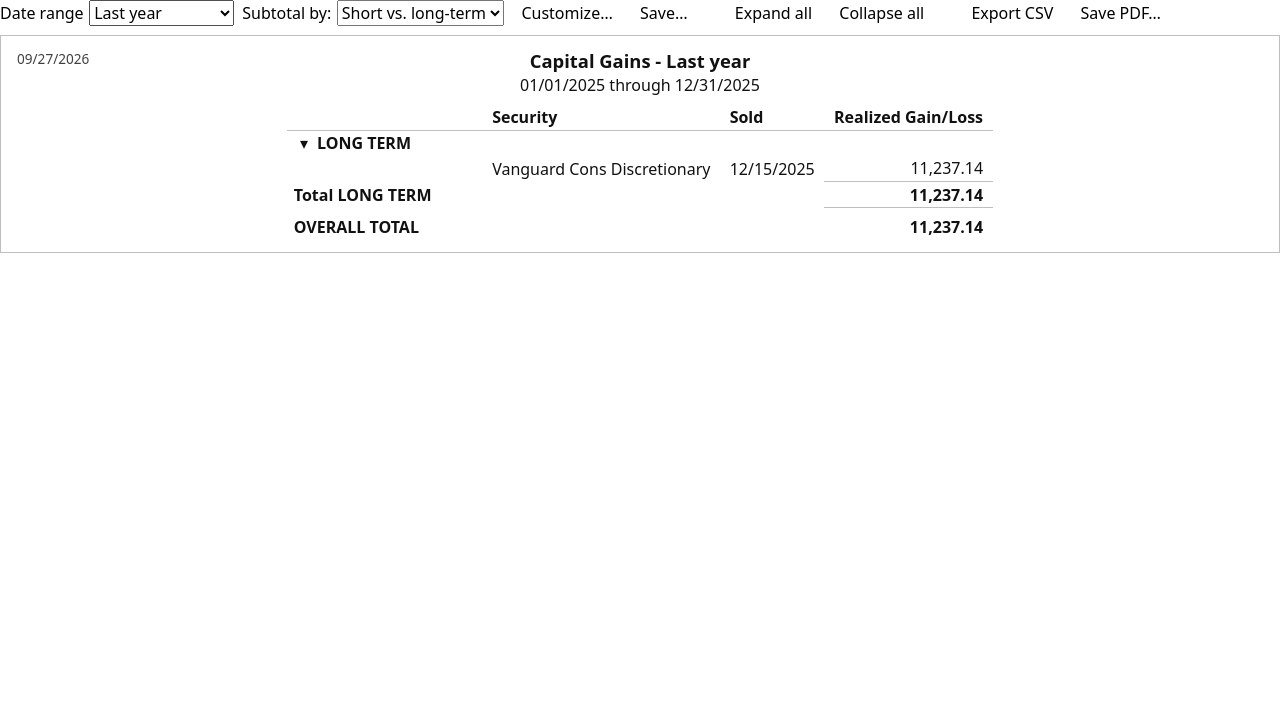
Test: Report window › Save PDF asks the orientation, saves, and says where
Step 1. Click the button "Save PDF…" → (1121, 13), box x1=1071 y1=0 x2=1170 y2=27
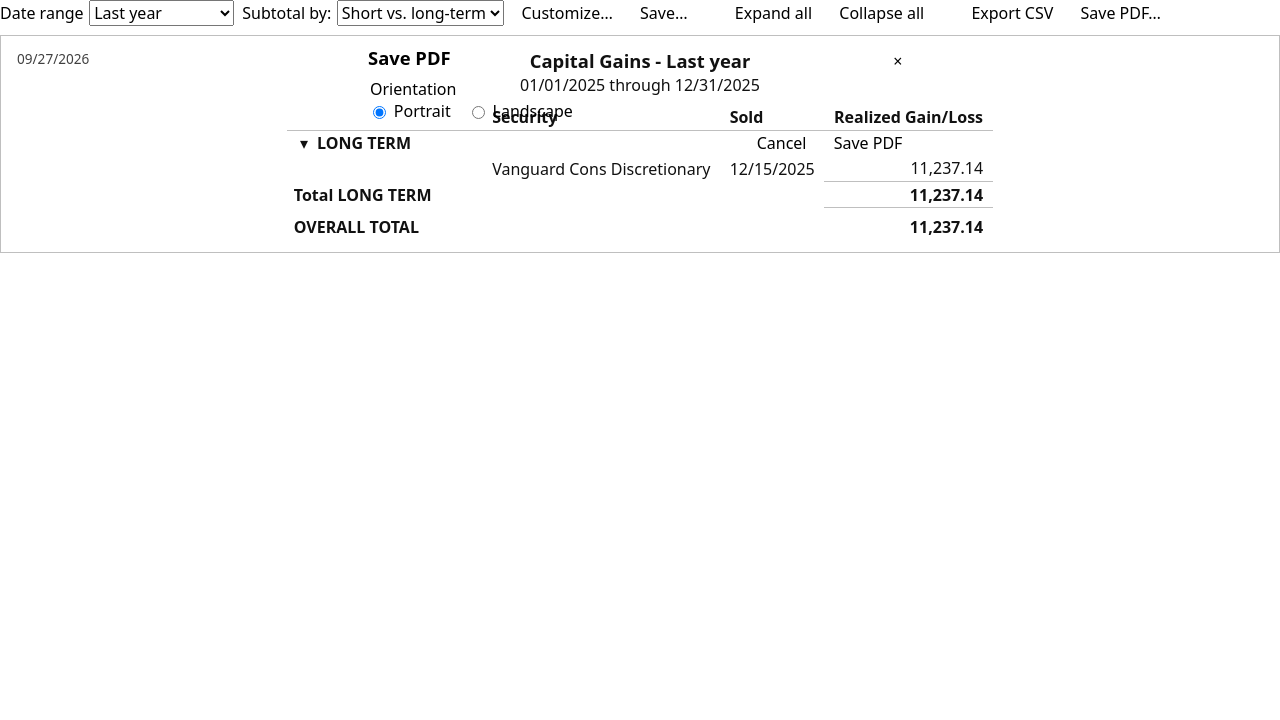
Result: the radio button labelled "Portrait" is checked at x1=373 y1=106 x2=386 y2=119
Step 2. Click the radio button labelled "Landscape" → (478, 112), box x1=472 y1=106 x2=485 y2=119
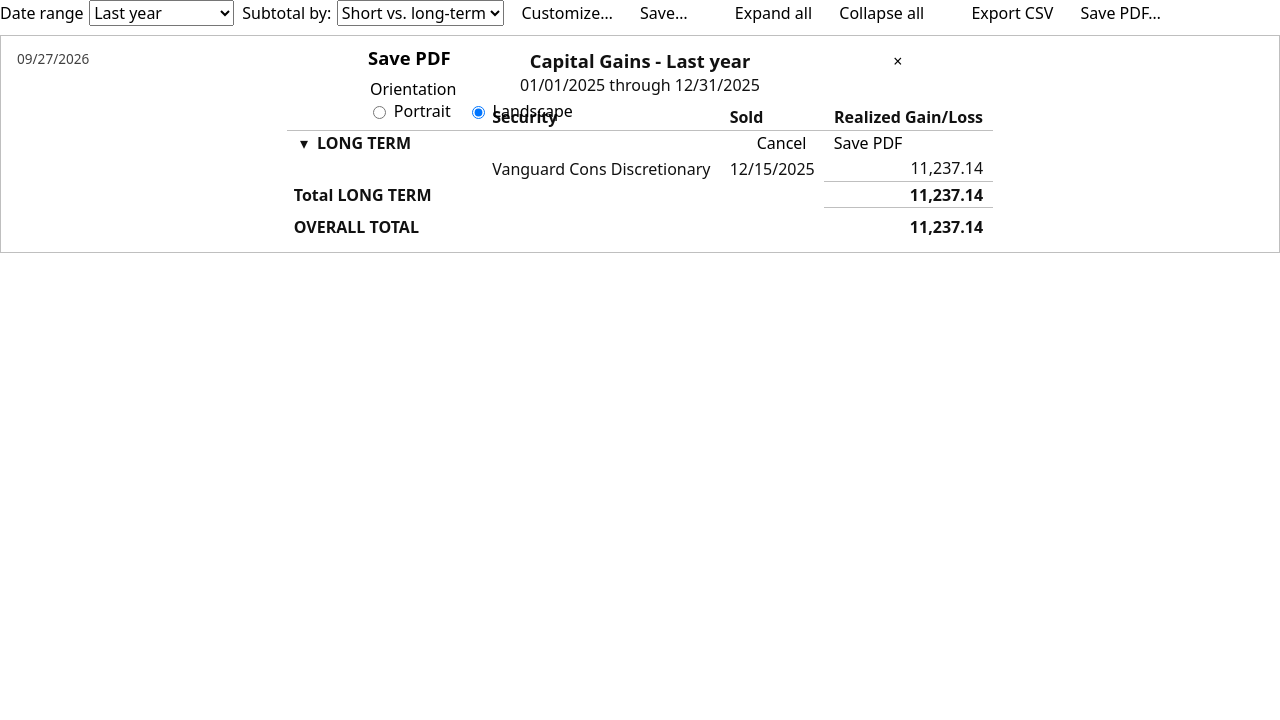
Step 3. Click the button "Save PDF" → (868, 143), box x1=824 y1=130 x2=912 y2=157
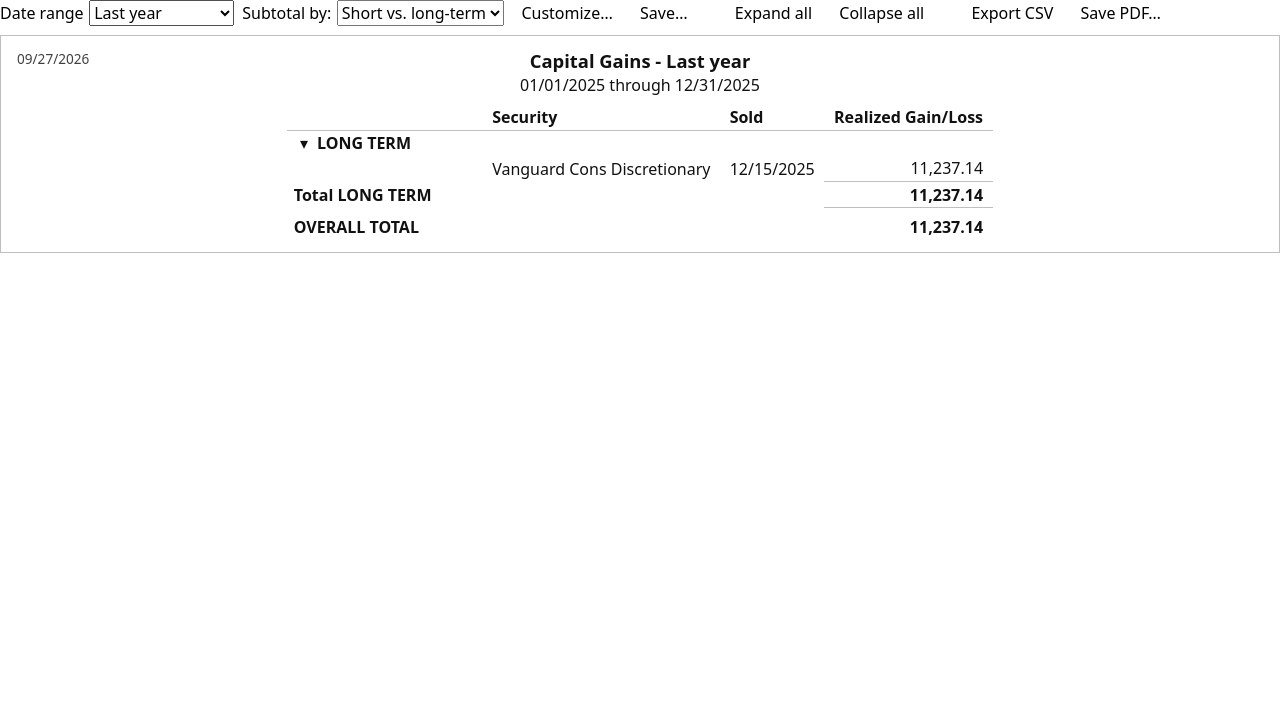
// The choice is remembered for the next PDF.
Step 4. Click the button "Save PDF…" → (1121, 13), box x1=1071 y1=0 x2=1170 y2=27
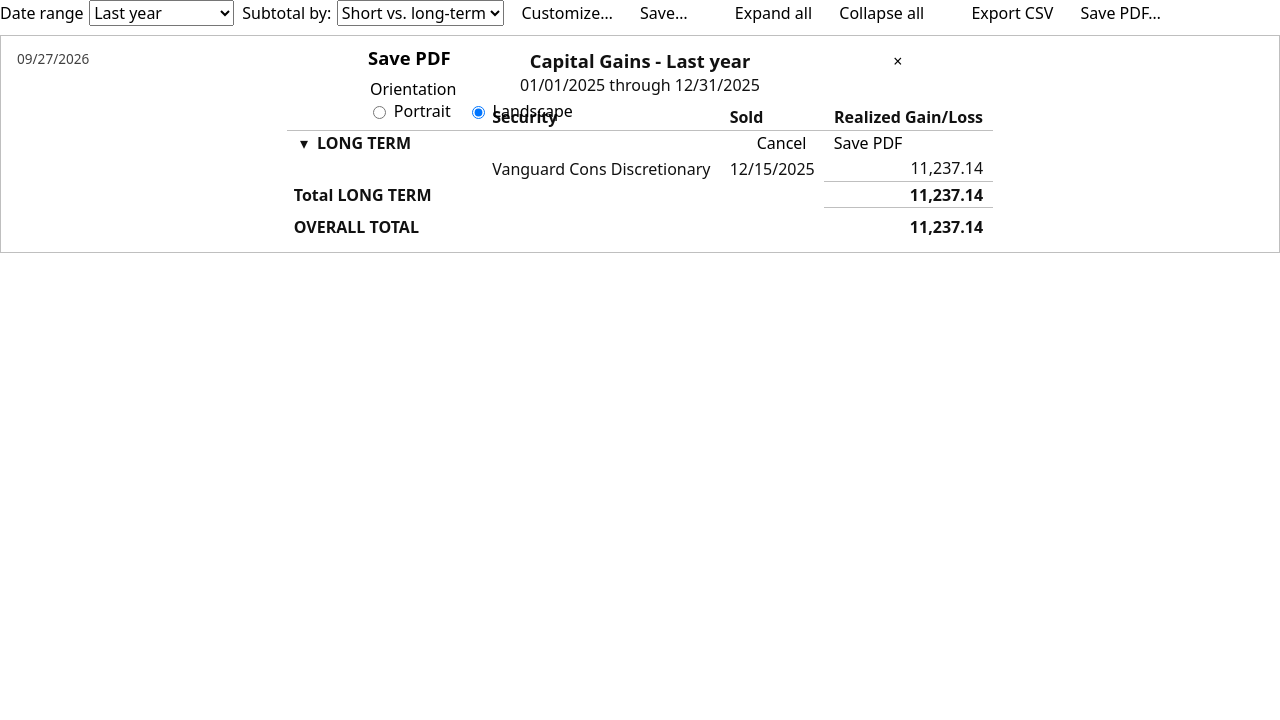
Result: the radio button labelled "Landscape" is checked at x1=472 y1=106 x2=485 y2=119
